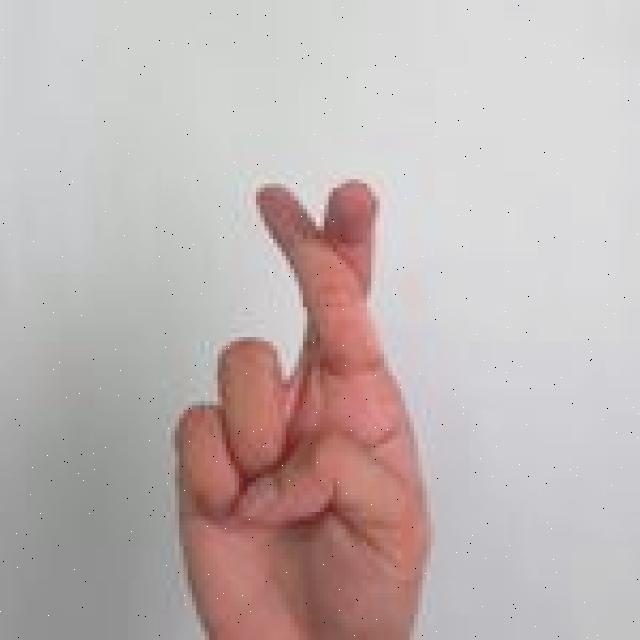R: (171, 174, 440, 640)
